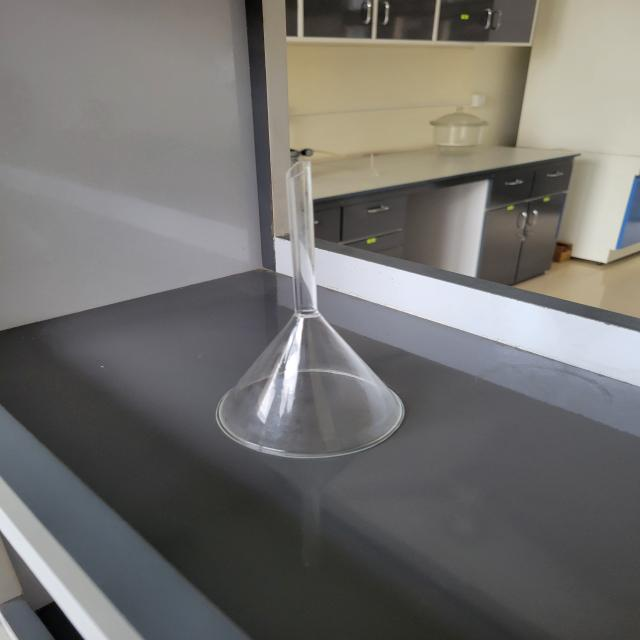Funnel: (208, 122, 424, 493)
